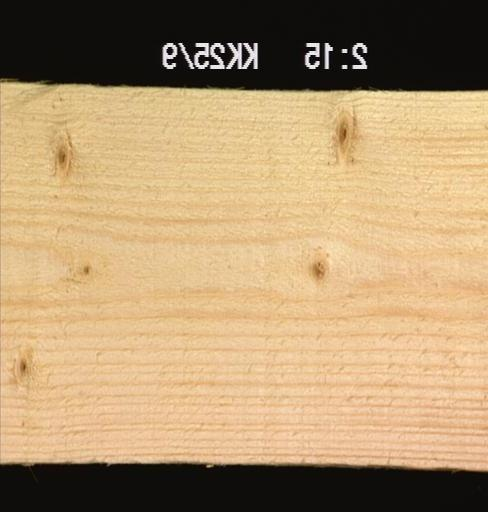small_knot: (46, 124, 76, 182), (7, 342, 36, 387), (76, 257, 96, 280)
sound_knot: (326, 104, 361, 164), (306, 251, 331, 284)
